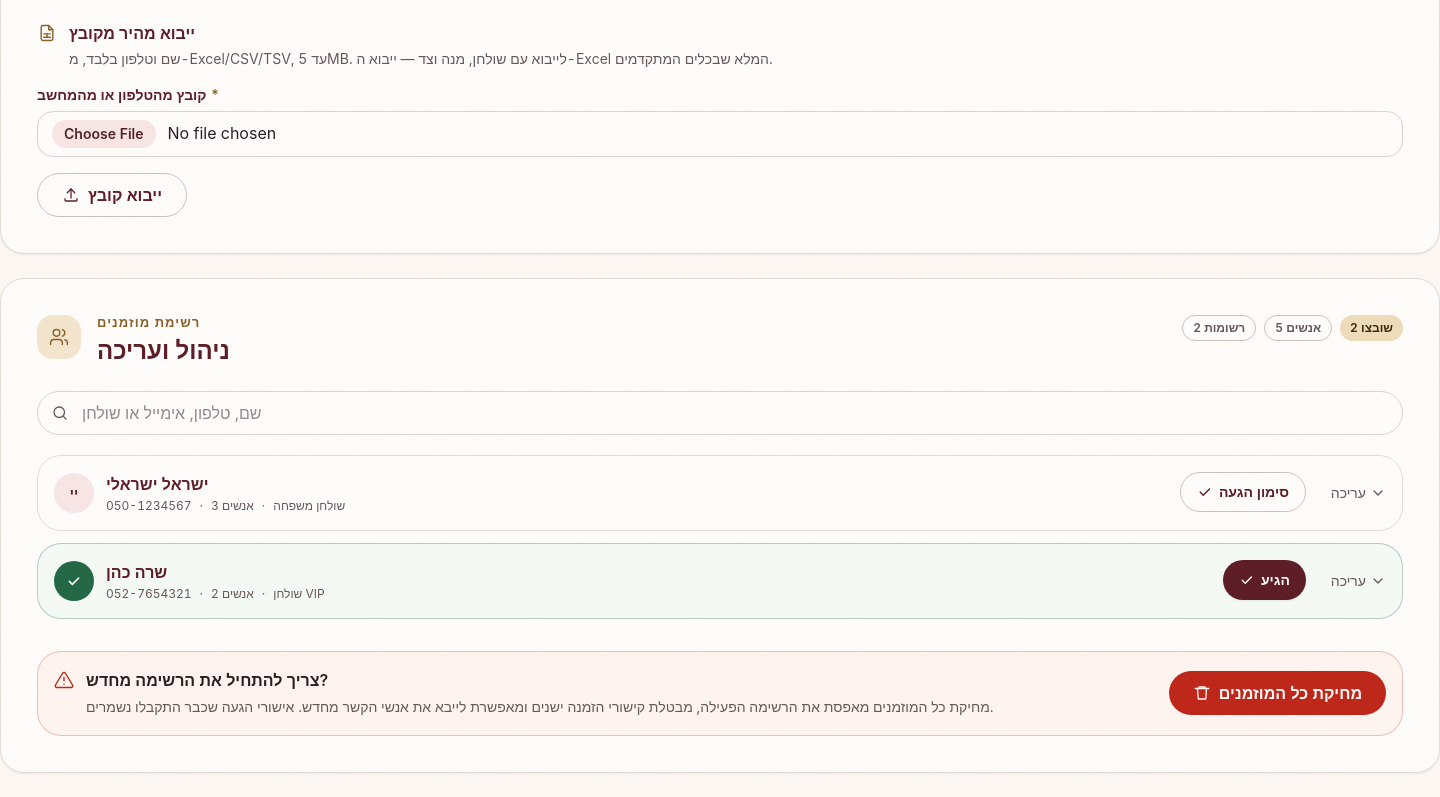
Test: GuestManagementPanel › mounts a row edit form only once the row is opened
(page scrolled)
Expected: the button "שמירת שינויים" is not shown
Click the text "ישראל ישראלי" at (157, 484), box x1=106 y1=474 x2=208 y2=494
(page scrolled)
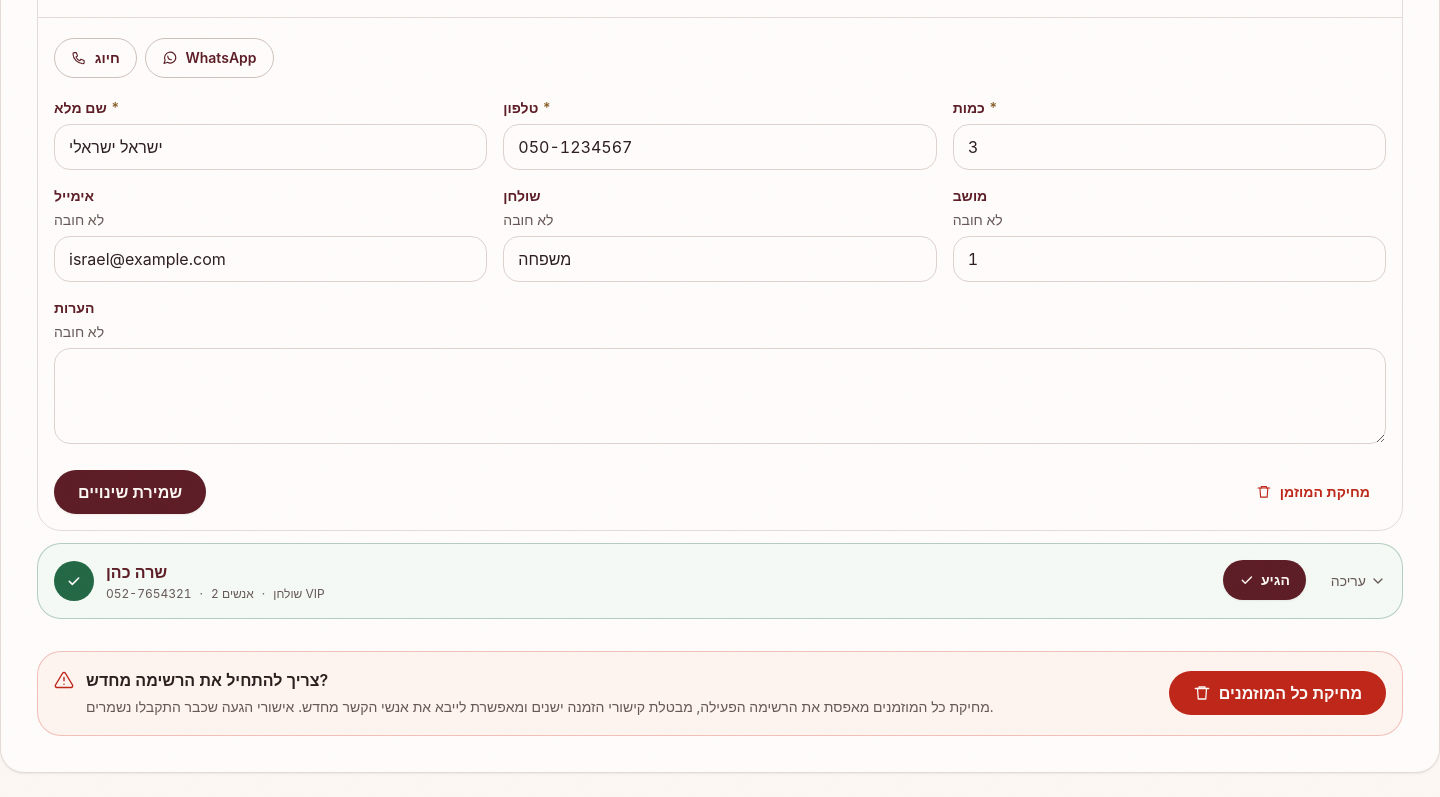
Expected: the button "שמירת שינויים" is shown, x1=54 y1=470 x2=206 y2=514
